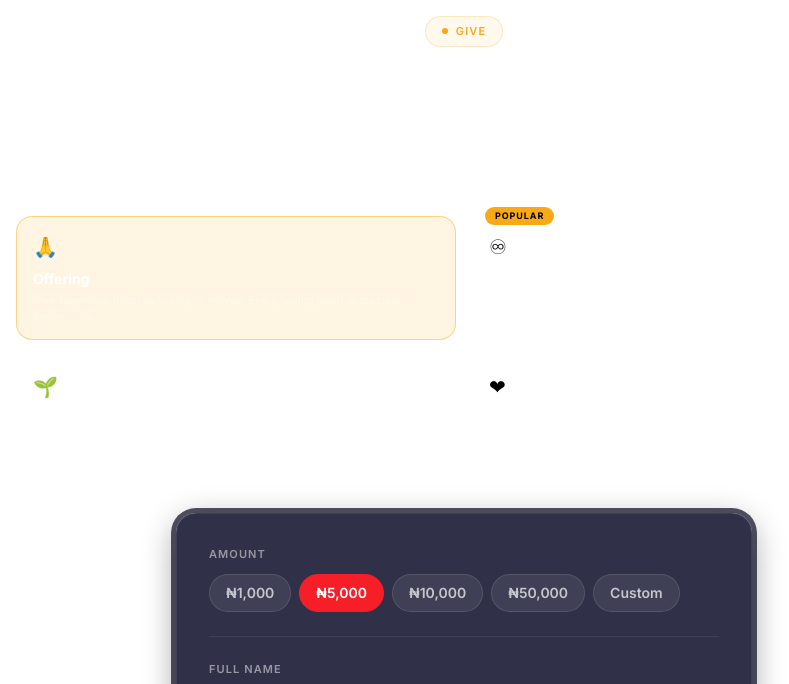
Test: GiveSection › shows custom amount input when Custom preset is selected
Click the button "Custom" at (636, 593), box [593,574,680,612]
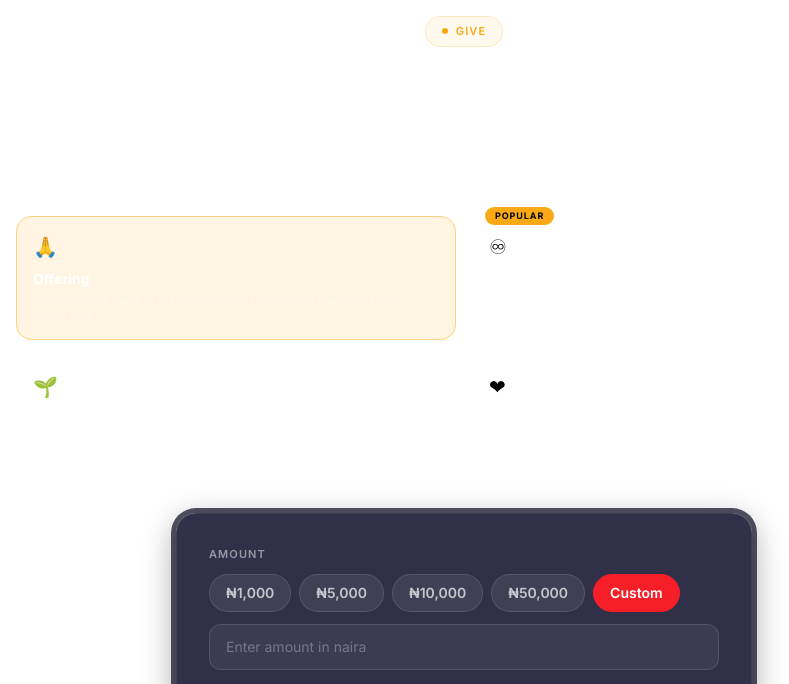
Result: the number field named "custom amount" is shown at [209,624,719,670]
